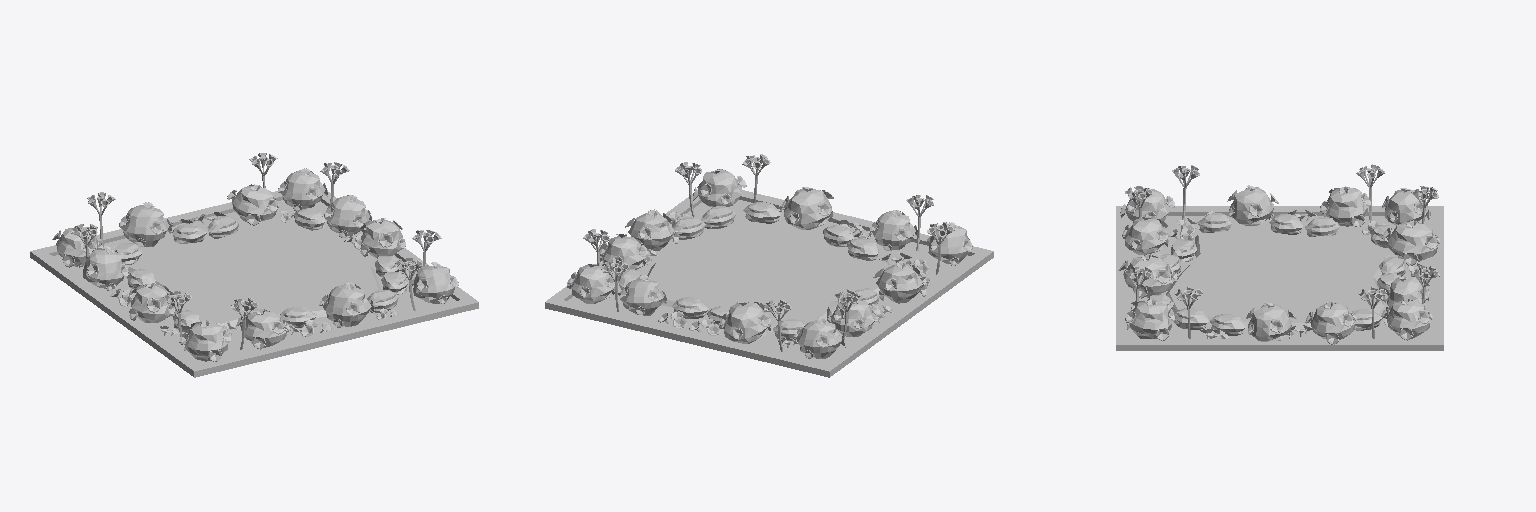
File: garden.obj
3 views of the same model, side by side, from view 1: azimuth 30°, elevation 25°; view 2: azimuth 150°, elevation 25°; view 3: azimuth 270°, elevation 25° (orthographic).
Parts seen in each view (by area): view 1: Garden; view 2: Garden; view 3: Garden.
Boxes of the visible parts, x1,y1,x2,y2 form: Garden: [30, 153, 478, 377]; Garden: [545, 154, 993, 377]; Garden: [1116, 164, 1443, 350].
Bounding box in the file's own units: 24.18 × 4.27 × 23.96.